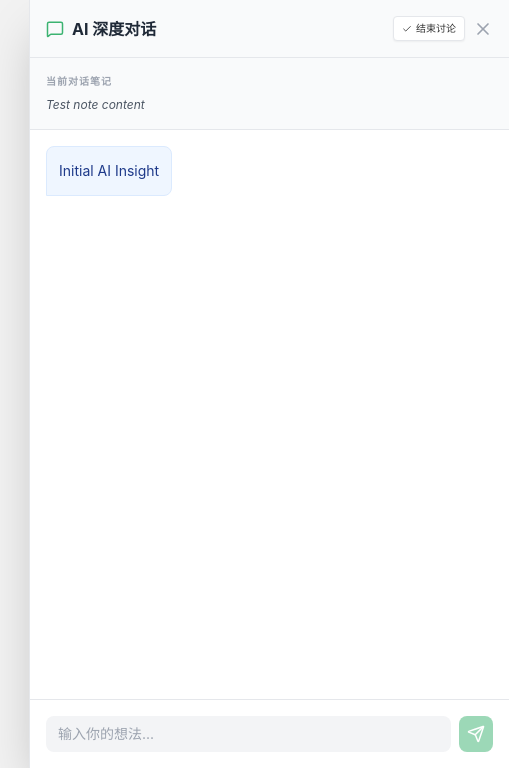
Test case: AIChatSidebar › should send user message and display AI response
Expected: the text "Initial AI Insight" is shown, [59,159,159,183]
// Type and send
Type "Hello AI" into the field with placeholder "输入你的想法..." at (248, 734), box [46,716,451,752]
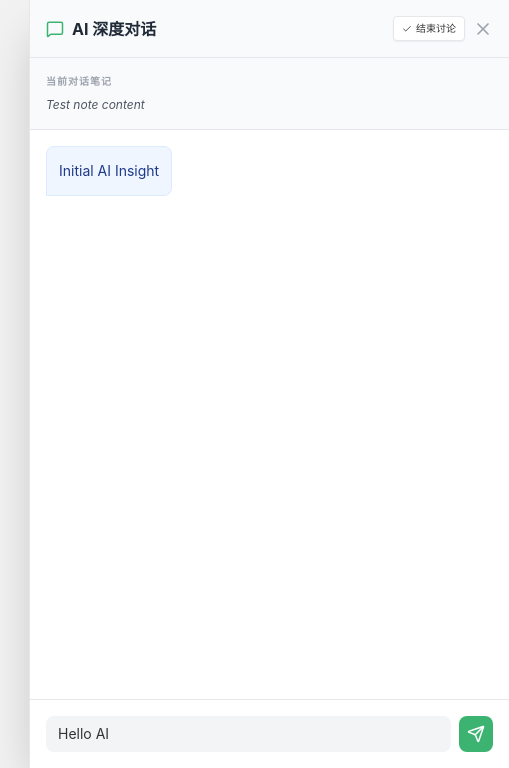
Click the button named "发送" at (476, 734), box [459,716,493,752]
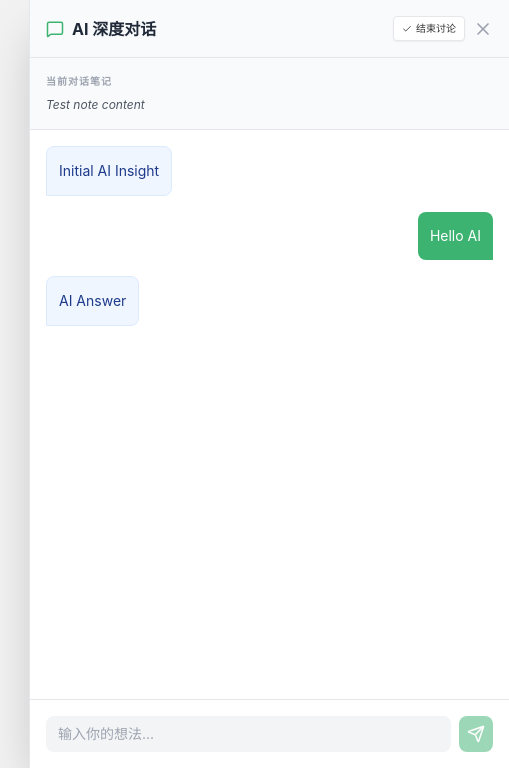
Expected: the text "Hello AI" is shown, [430,224,481,248]
Expected: the text "AI Answer" is shown, [59,289,126,313]
